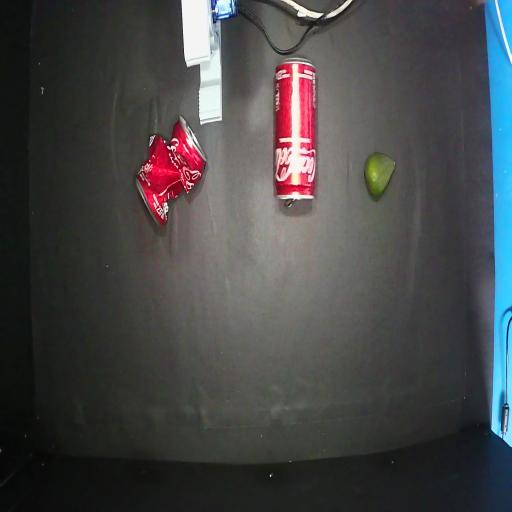higo: (364, 152, 395, 199)
lata: (274, 59, 317, 205)
lata_defectuoso: (136, 116, 206, 225)
